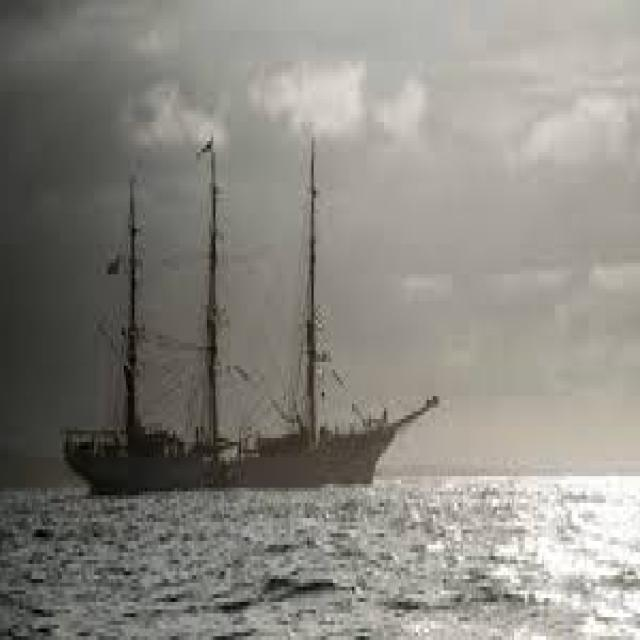fishing boat: (55, 135, 436, 499)
